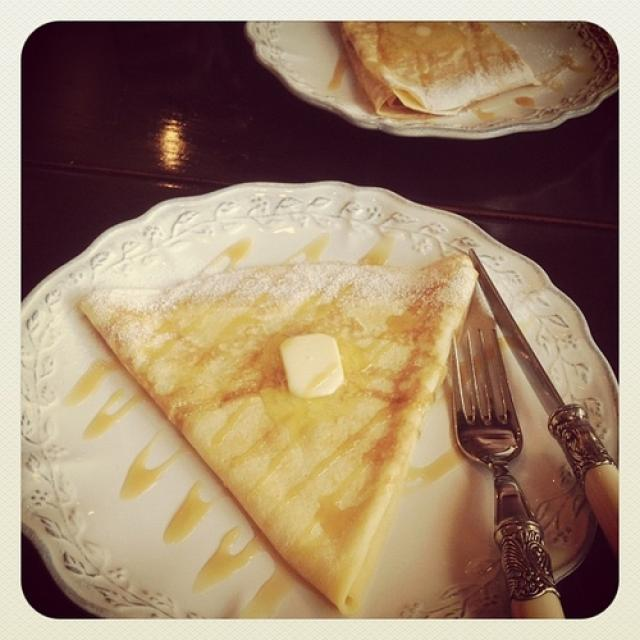蛋糕甜品: (41, 160, 567, 602)
